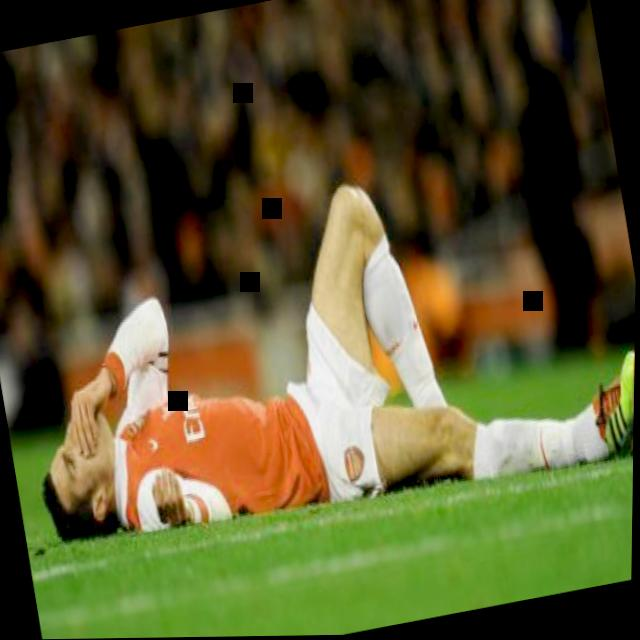Fall-Detected: (0, 118, 639, 555)
